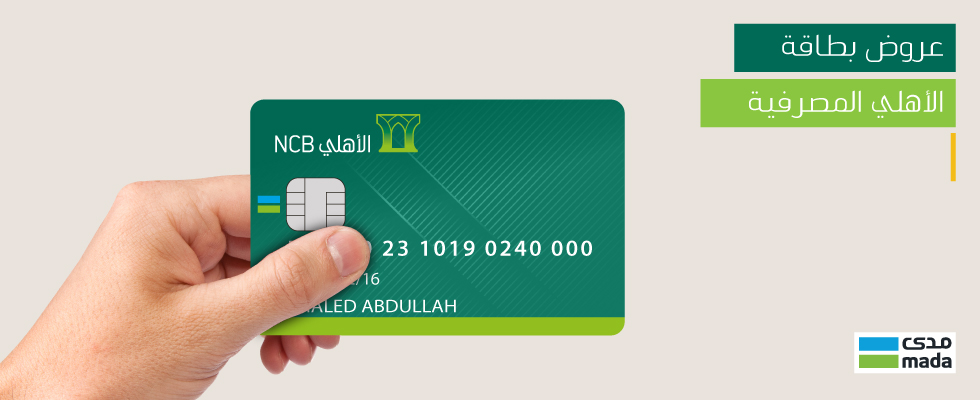tarjeta: (248, 98, 628, 338)
